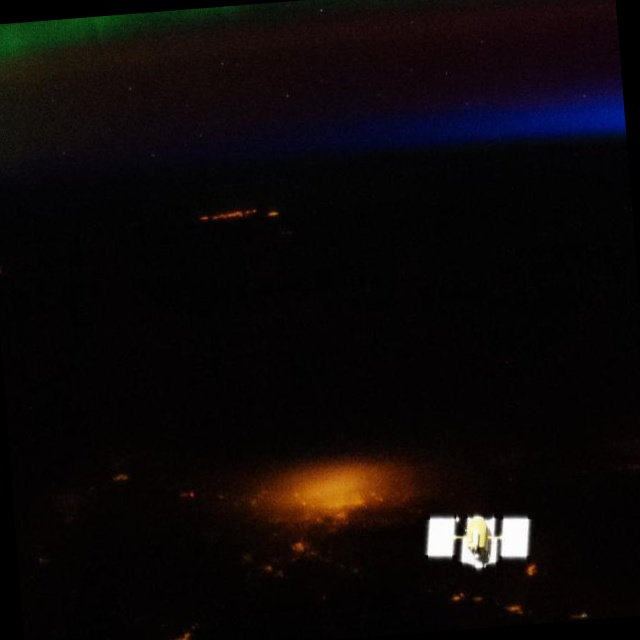satellite: (402, 491, 546, 582)
